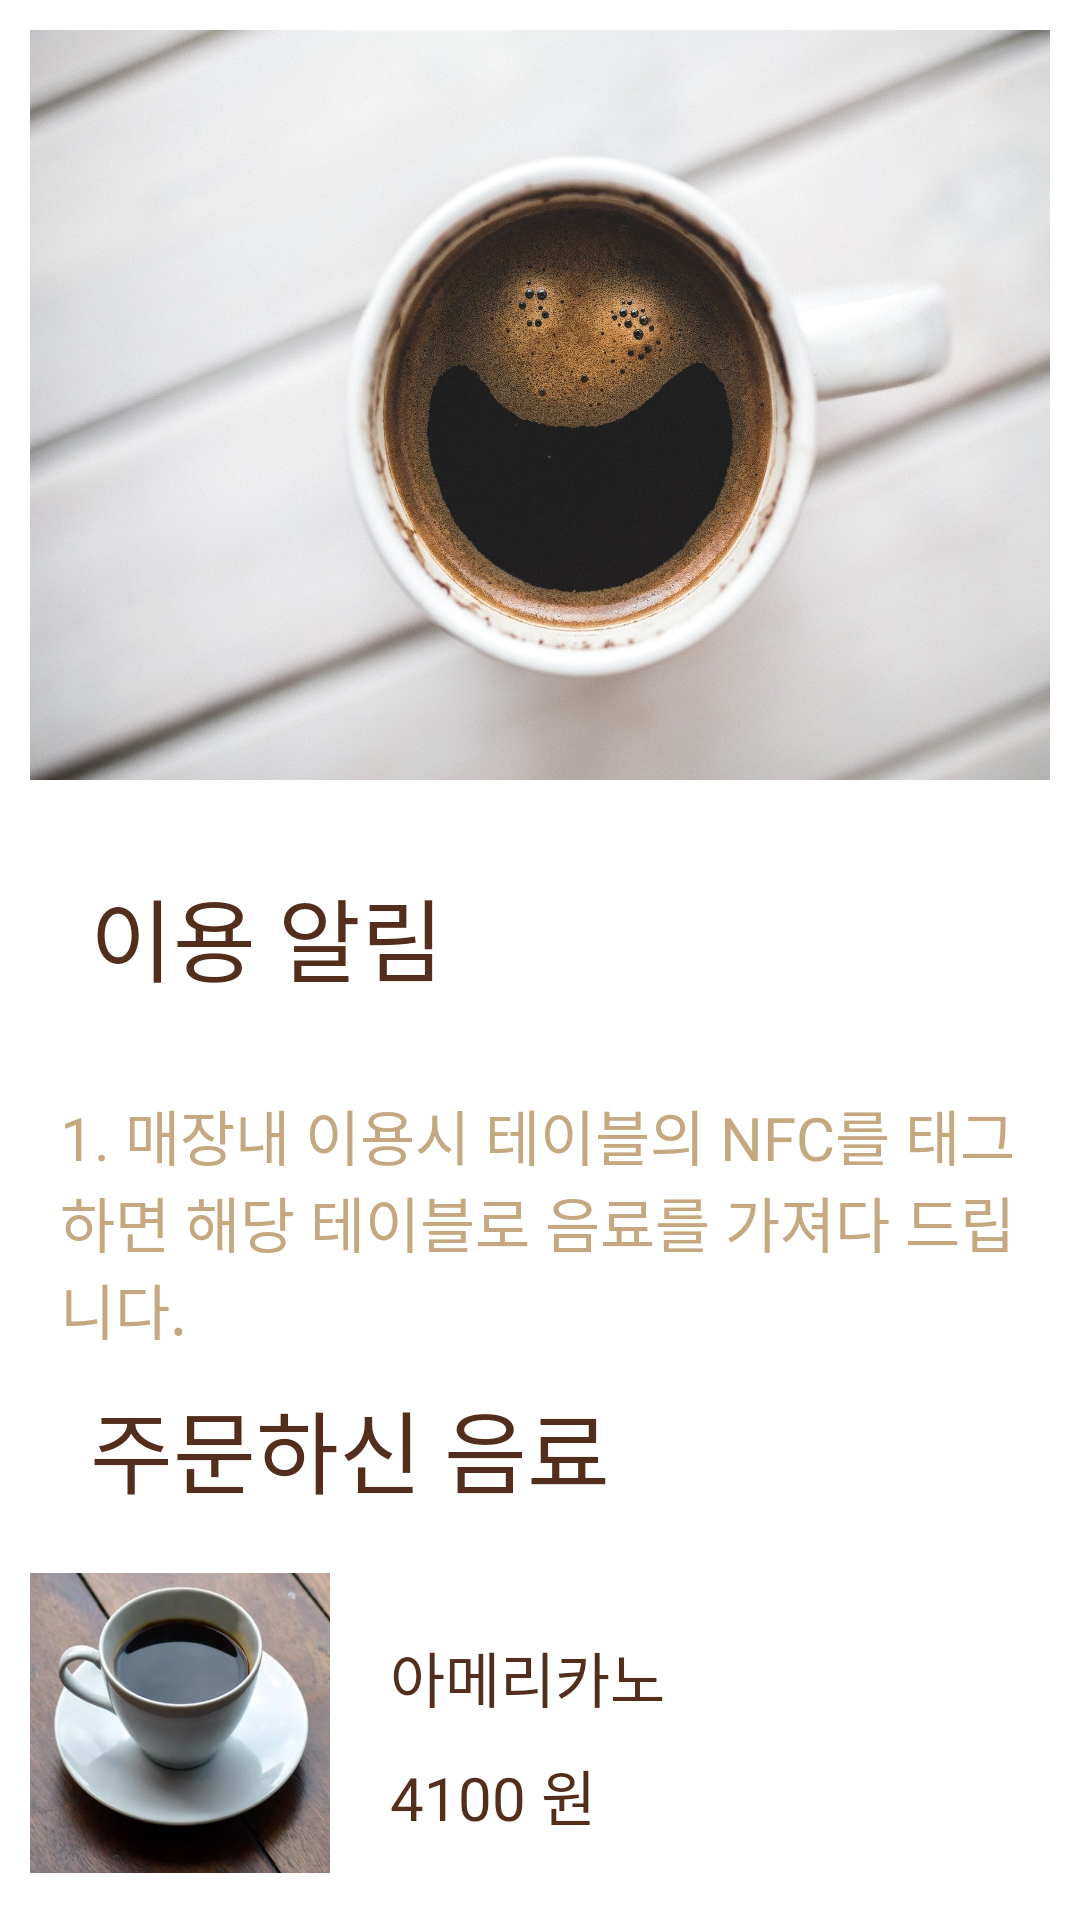

Named icons in this screenshot (1080 x 1920) and their bounding boxes, (x1, y1, x2, y2):
coffee: (30, 1573, 330, 1873)
